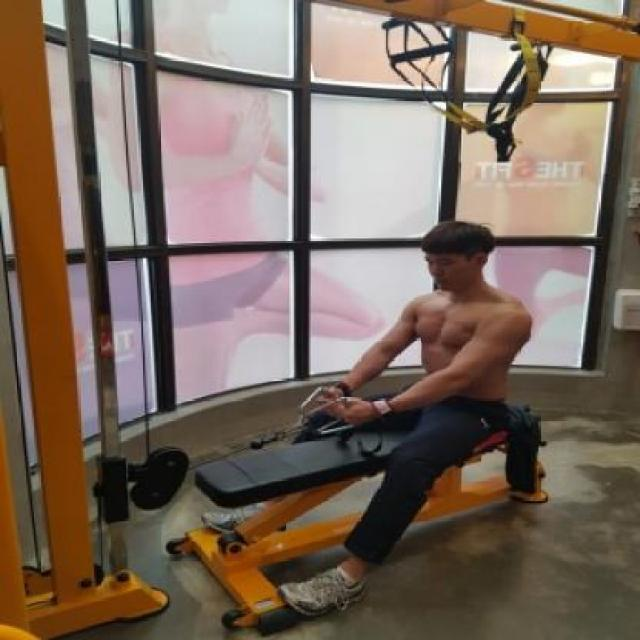Seated Cable Rows: (0, 14, 557, 640)
